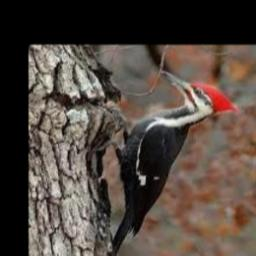Woodpecker: (110, 71, 238, 256)
